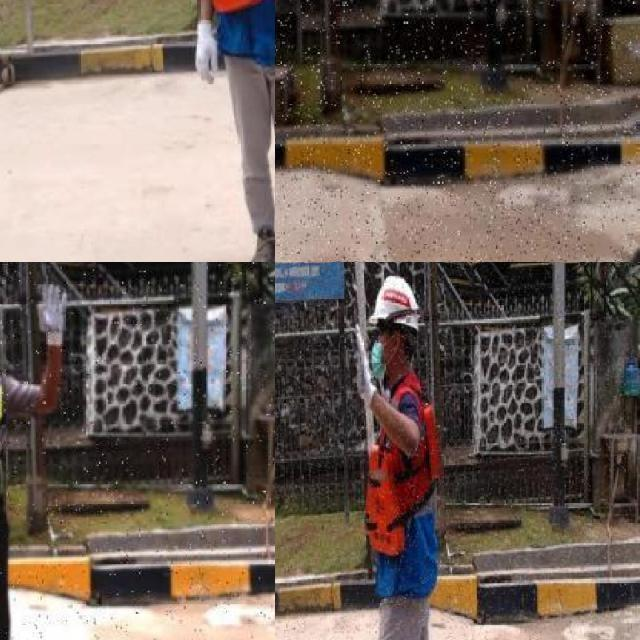apron: (351, 322, 380, 410), (34, 282, 70, 350), (194, 16, 222, 84)
